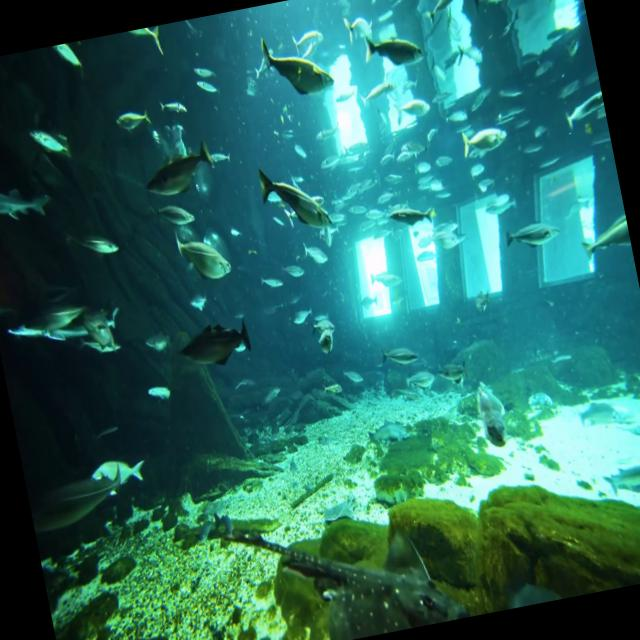fish: (257, 156, 332, 240), (260, 30, 334, 102), (175, 314, 254, 374), (141, 140, 217, 196), (171, 223, 234, 288), (361, 24, 425, 75), (95, 456, 148, 500), (458, 122, 510, 161), (504, 216, 560, 252), (384, 201, 440, 235), (112, 108, 152, 140)
